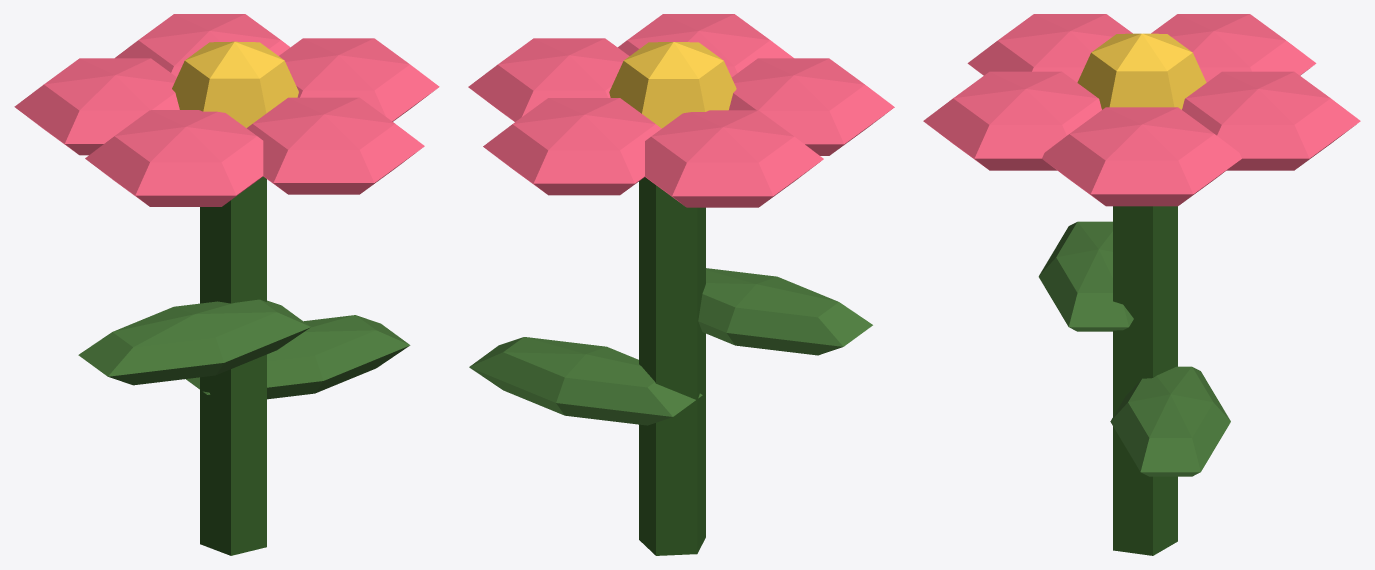
File: flower.glb
3 views of the same model, side by side, from view 1: azimuth 30°, elevation 25°; view 2: azimuth 150°, elevation 25°; view 3: azimuth 270°, elevation 25° (orthographic).
Visible parts, largest first — view 1: flower; view 2: flower; view 3: flower.
Part boxes in pixels (x1,y1,x2,y2): flower: (14,14,439,555); flower: (468,14,894,555); flower: (923,14,1360,555).
Size of the model in its own units: 0.2801 by 0.39 by 0.3047.
